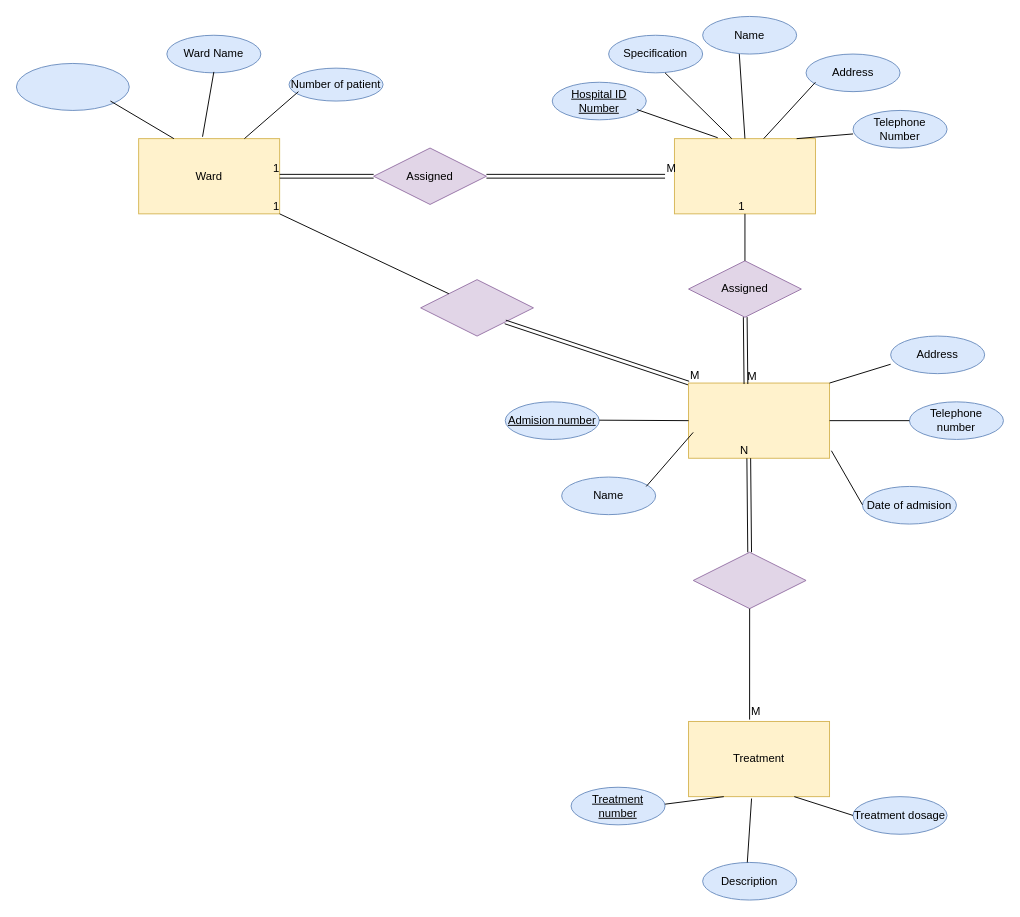
This 1020x917 diagram has some shape labels left out. The shapes that lost their labels are listed below. From the top down, each one's box as (x1, y1, x2, y2) in pixels, then its label:
(16, 63, 129, 110): Ward Number
(674, 138, 815, 214): Doctor
(420, 279, 533, 336): Hosts
(688, 382, 830, 458): Patient
(692, 551, 806, 609): Has
